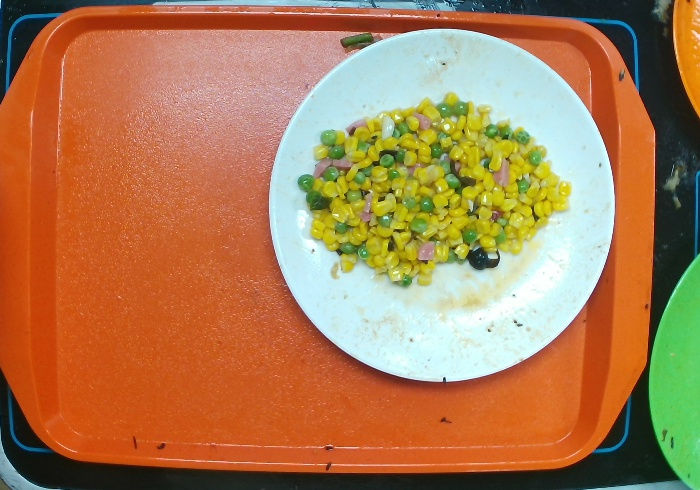HZYJPL-Bai_Se_Yuan_Pan: (264, 22, 619, 390)
